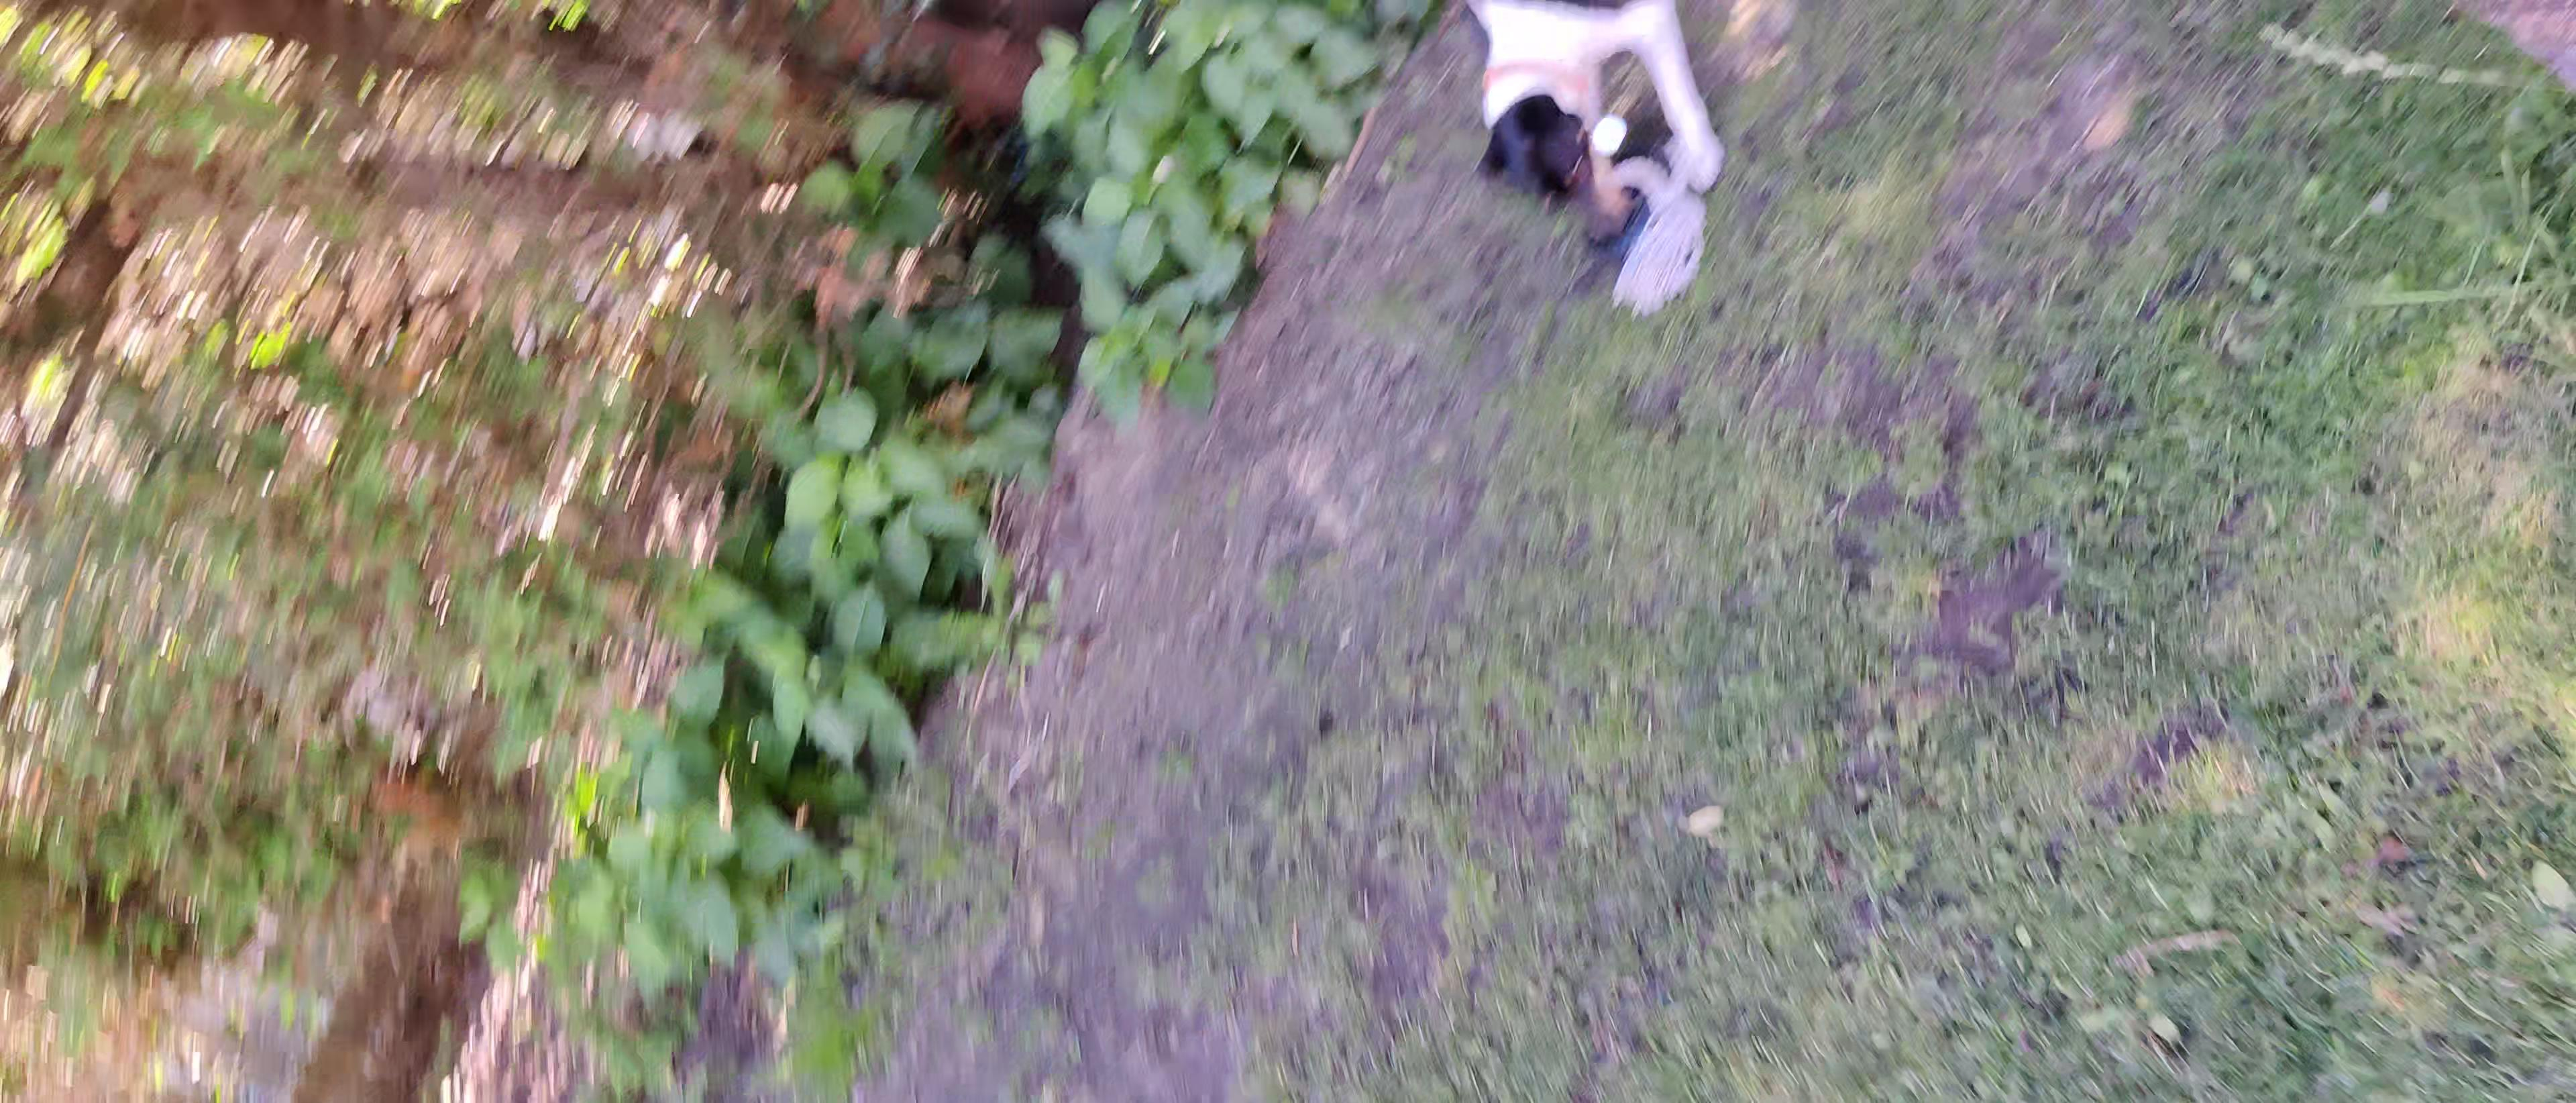Dog: (1456, 0, 1736, 271)
